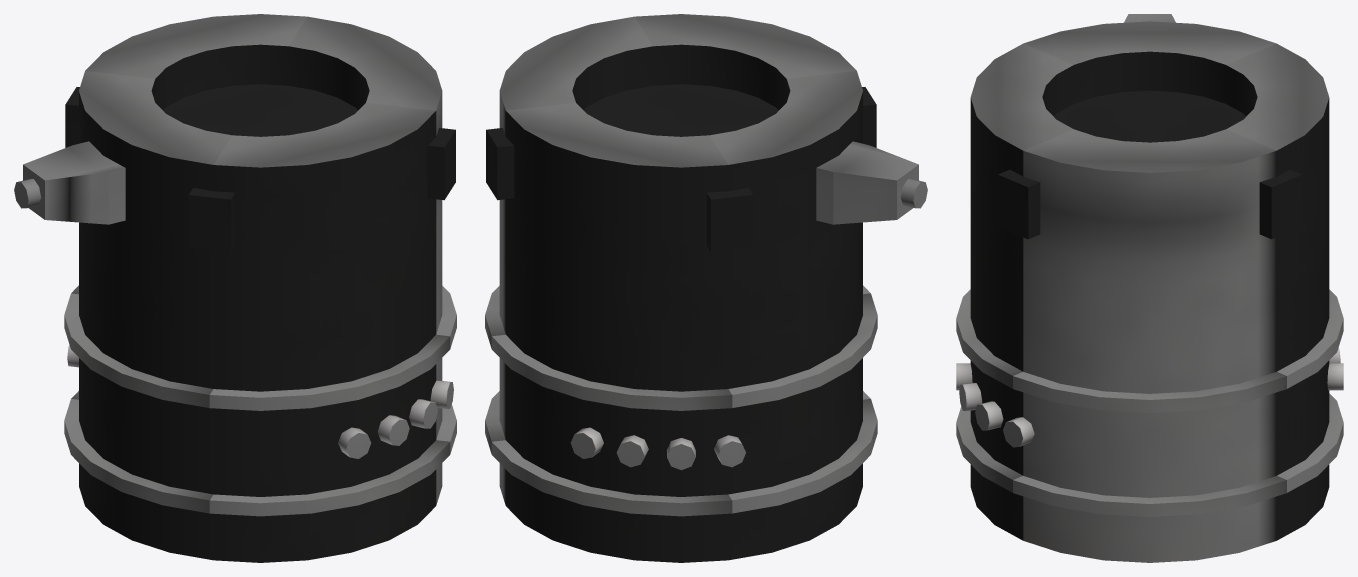
File: ye85_avionics_s00_1.obj
3 renders of one model, left to right at view 1: azimuth 30°, elevation 25°; view 2: azimuth 150°, elevation 25°; view 3: azimuth 270°, elevation 25°, orthographic.
Parts seen in each view (by area): view 1: 1; view 2: 1; view 3: 1.
Part boxes in pixels (x1,y1,x2,y2): 1: (14, 14, 456, 562); 1: (485, 14, 927, 562); 1: (956, 14, 1343, 562).
Size of the model in its own units: 0.4062 by 0.4 by 0.3375.
